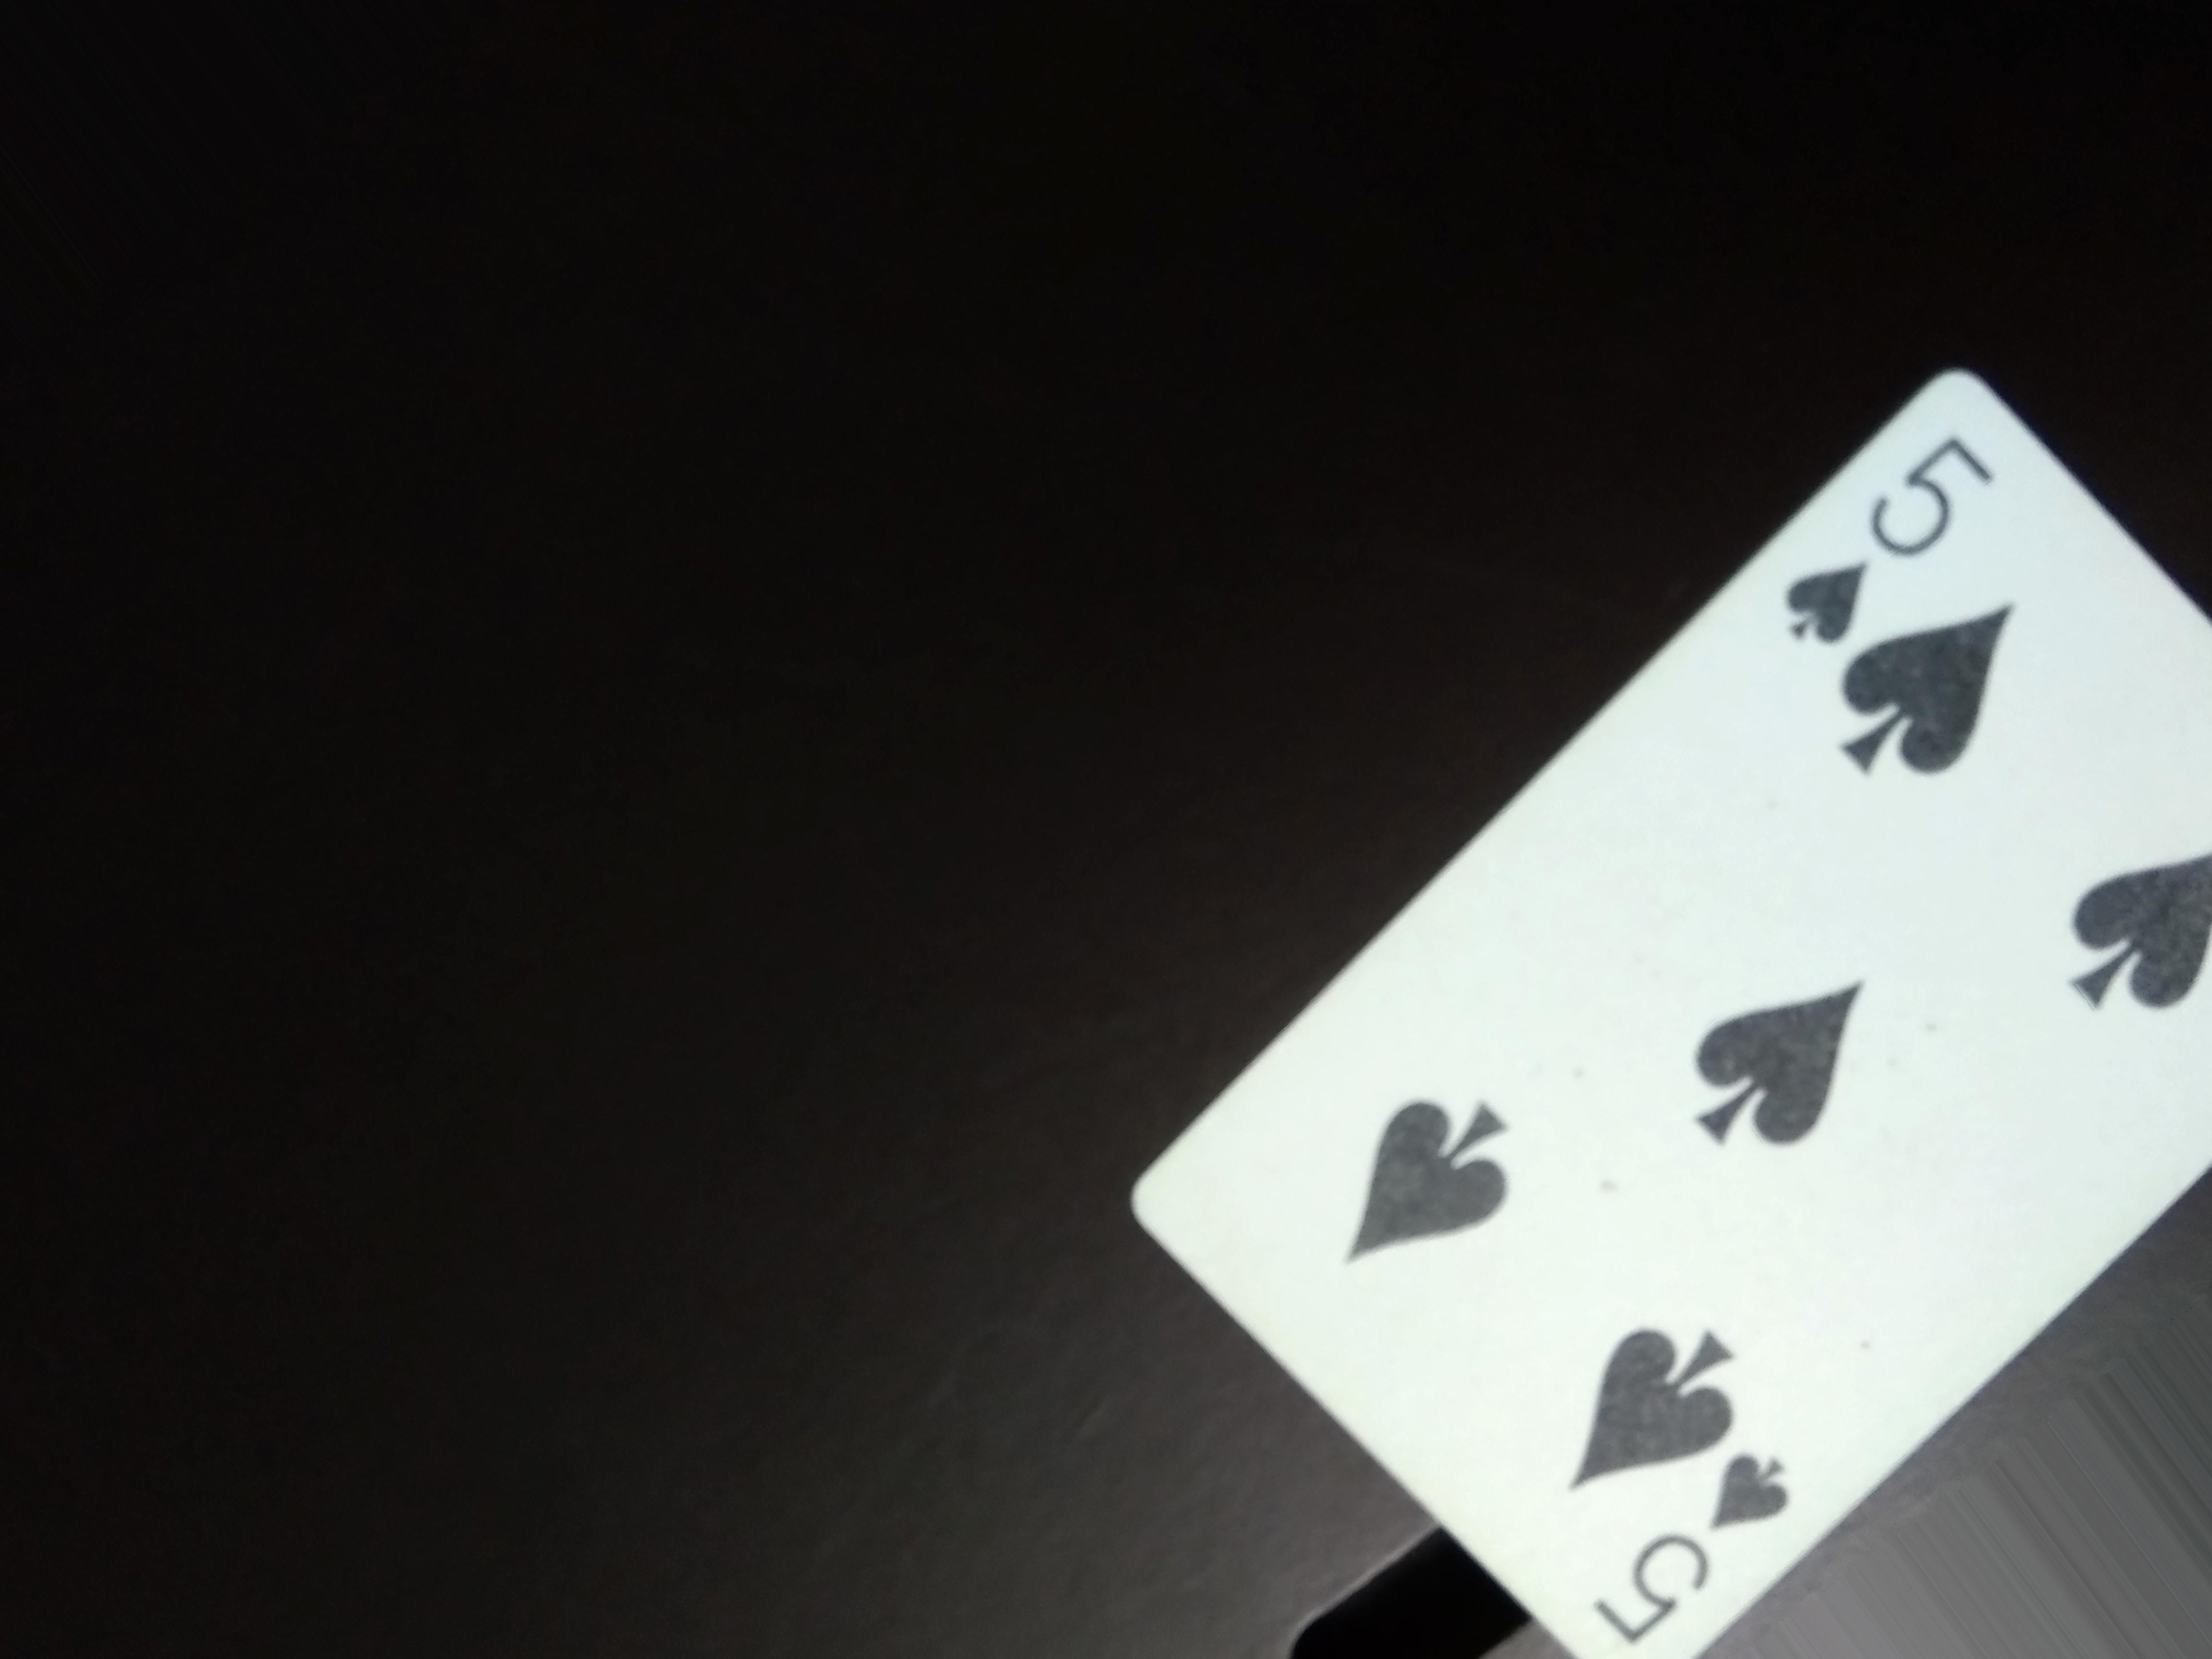5S: (1759, 423, 1972, 671)
